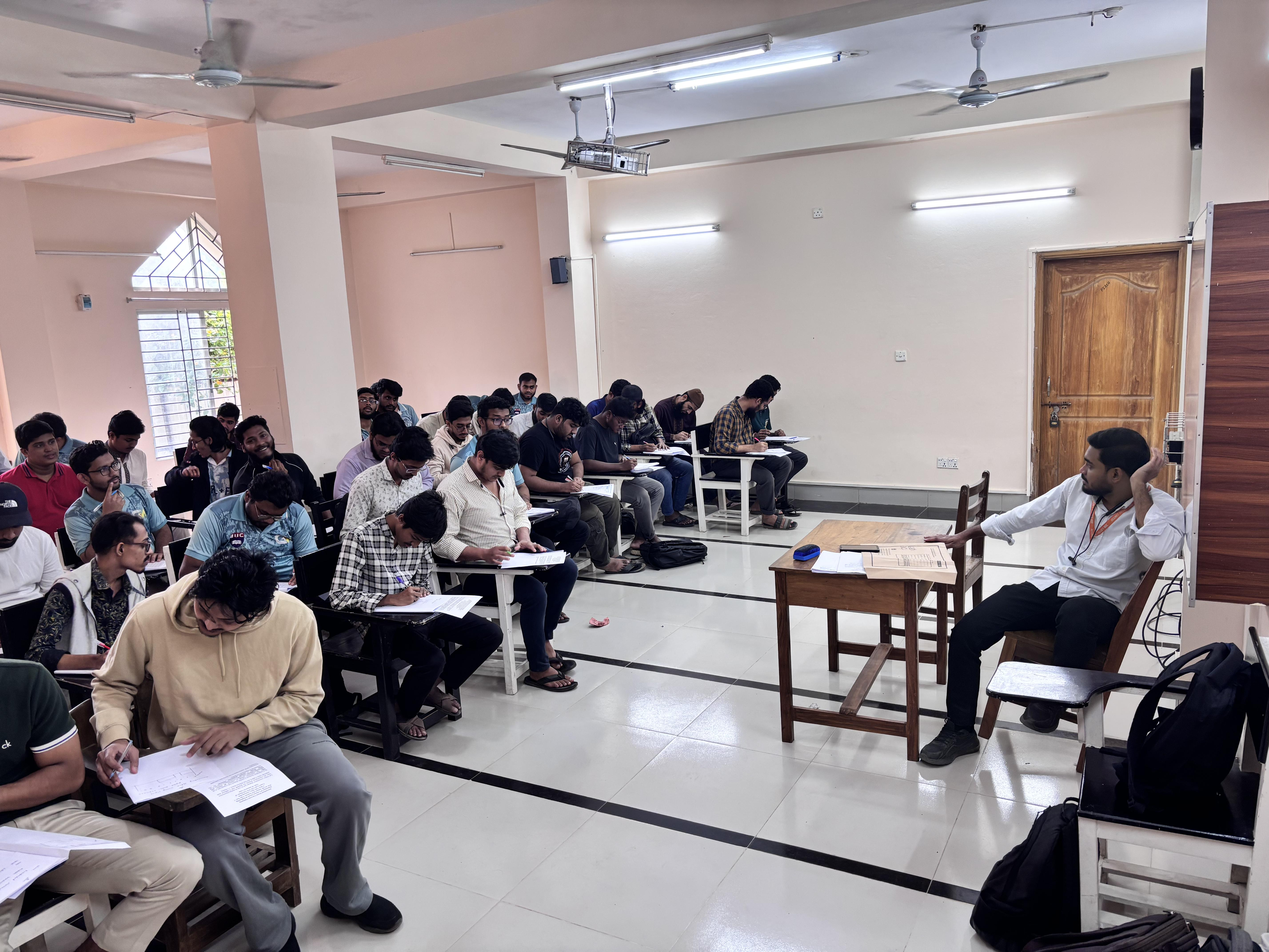copying: (116, 558, 364, 846), (57, 514, 169, 624), (161, 418, 240, 504), (332, 412, 401, 473)
invigilator: (951, 440, 1160, 686)
no_cheating: (342, 497, 471, 663), (443, 436, 564, 600), (201, 487, 321, 576), (528, 406, 611, 525), (585, 396, 642, 534), (358, 430, 438, 497), (9, 425, 72, 510), (111, 408, 167, 472), (660, 382, 710, 444), (435, 398, 476, 453), (475, 397, 525, 437)
suspicious_moving: (64, 441, 168, 515), (716, 380, 783, 492), (235, 416, 330, 480), (387, 367, 419, 420), (512, 369, 547, 402), (358, 384, 387, 422)
